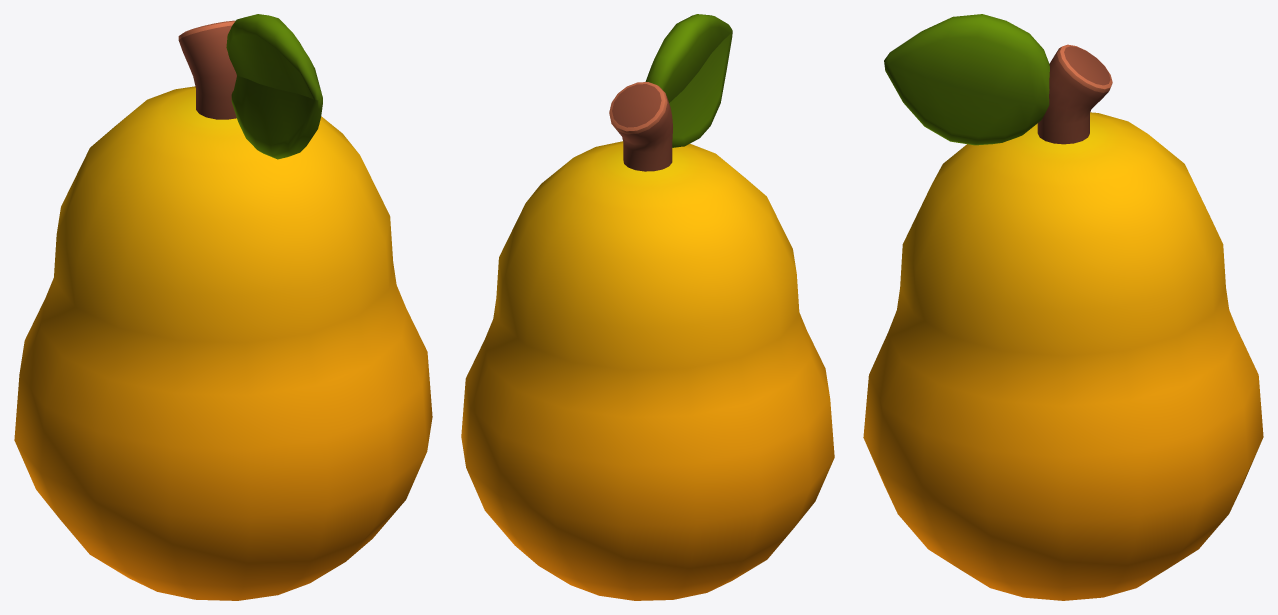
The model's file is Pear_V2_00.fbx.
The picture shows the model from 3 angles, left to right: view 1: azimuth 30°, elevation 25°; view 2: azimuth 150°, elevation 25°; view 3: azimuth 270°, elevation 25°; orthographic projection. The views are drawn at different scales.
Visible parts, largest first — view 1: Pear_V2_00; view 2: Pear_V2_00; view 3: Pear_V2_00.
Part boxes in pixels (box(x1,y1,x2,y2)): Pear_V2_00: box(14, 14, 432, 600); Pear_V2_00: box(461, 14, 834, 600); Pear_V2_00: box(863, 14, 1263, 600).
Bounding box in the file's own units: 25.83 × 40.43 × 25.83.
